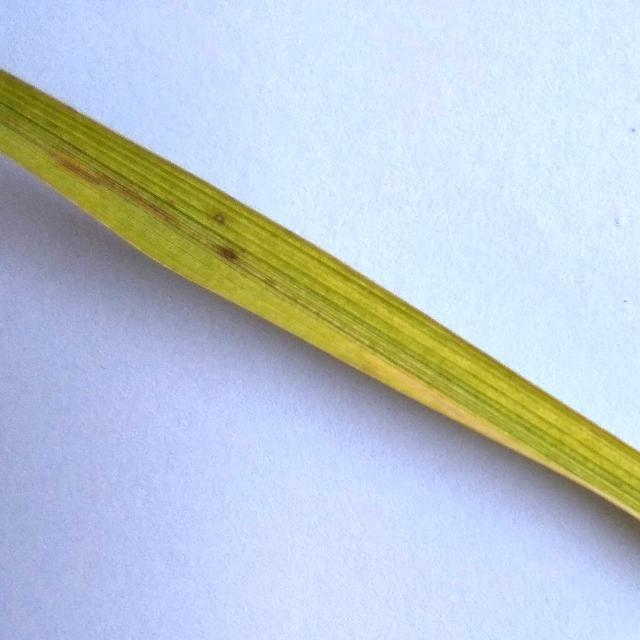brownspots: (217, 234, 252, 270)
